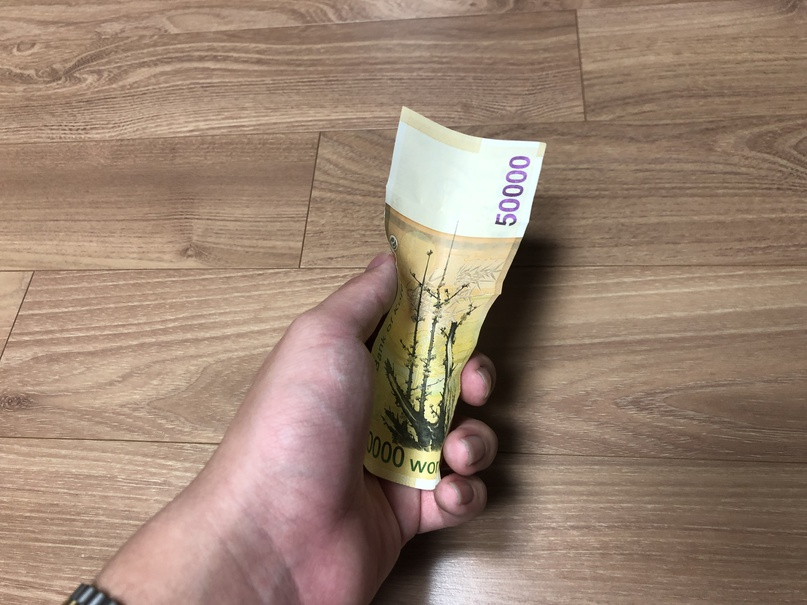50000won: (365, 107, 545, 492)
